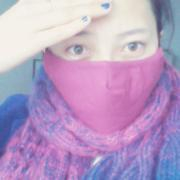OK: (49, 21, 158, 130)
